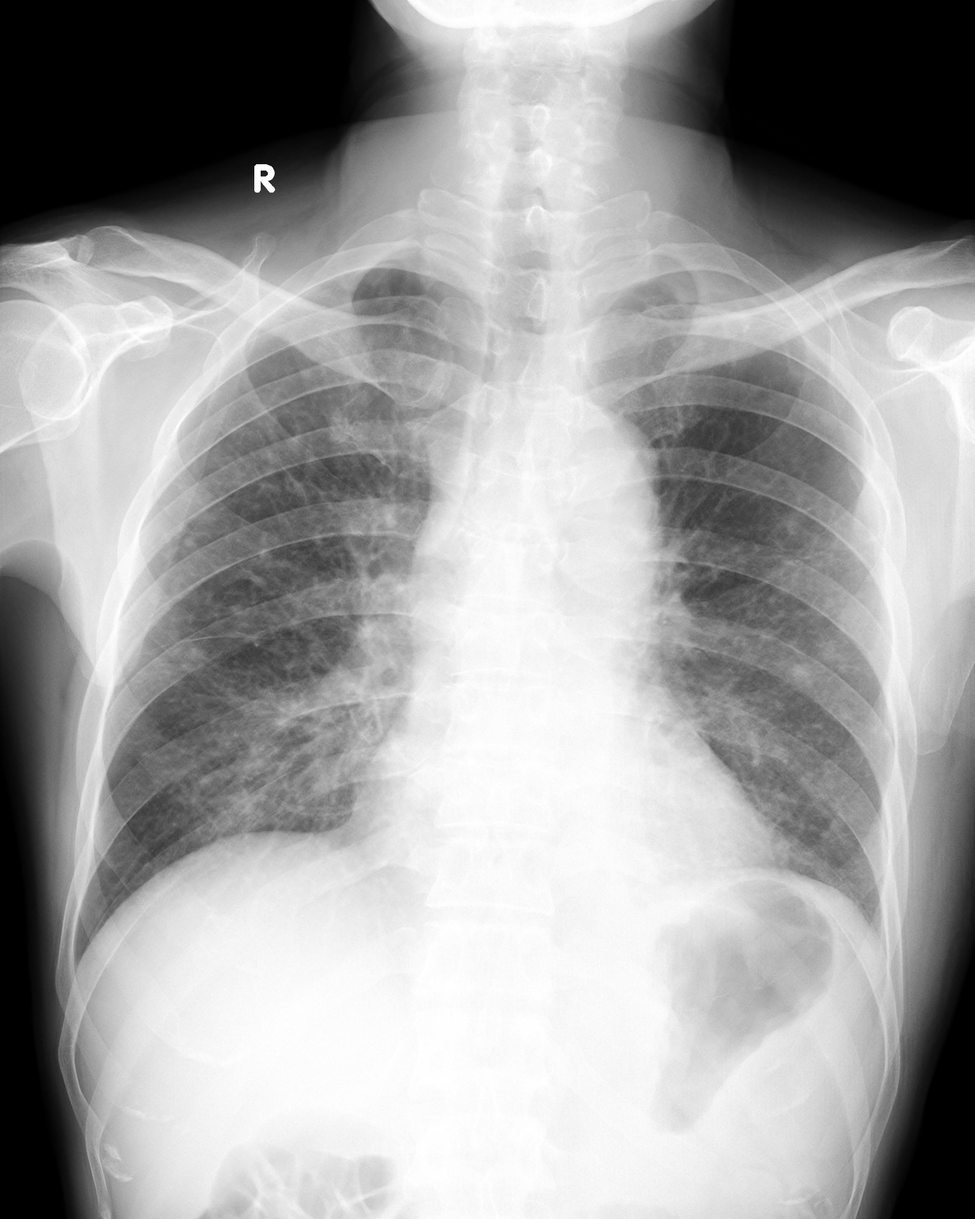Aortic enlargement: (526, 398, 660, 600)
Pulmonary fibrosis: (790, 590, 870, 682), (240, 422, 312, 516)
